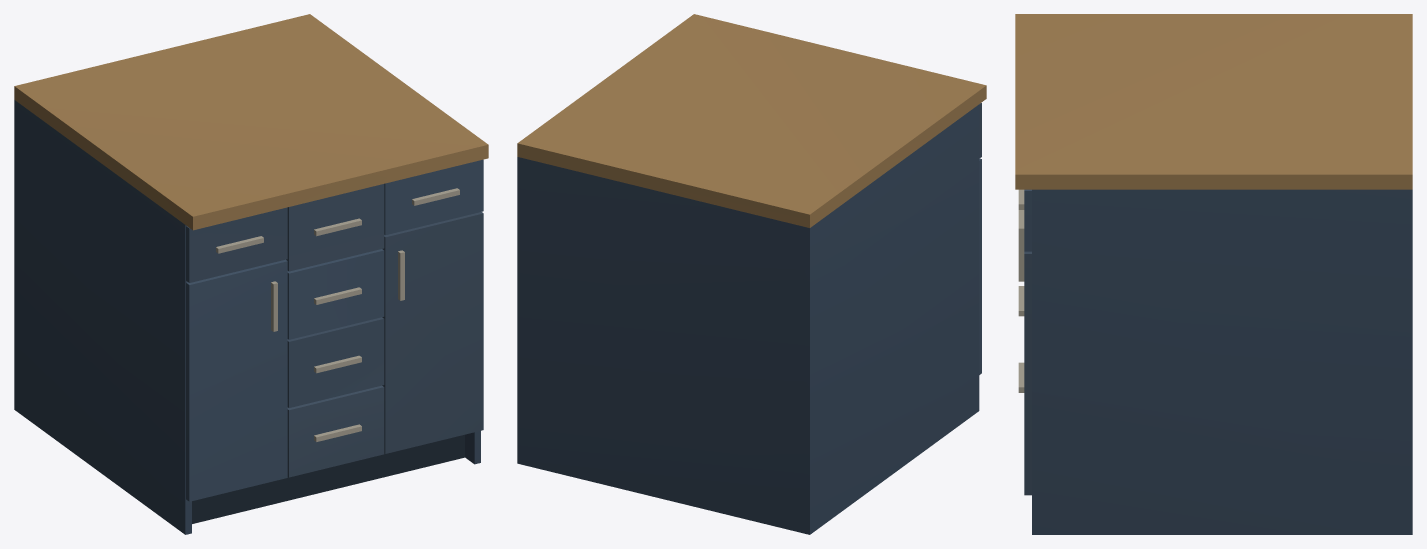
Rendered from cabinet.kitchen.blue.glb.
3 renders of one model, left to right at view 1: azimuth 30°, elevation 25°; view 2: azimuth 150°, elevation 25°; view 3: azimuth 270°, elevation 25°, orthographic. The views are drawn at different scales.
Visible parts, largest first — view 1: cabinet_kitchen_blue; view 2: cabinet_kitchen_blue; view 3: cabinet_kitchen_blue.
Part boxes in pixels (bbox=[...]): cabinet_kitchen_blue: bbox=[14, 14, 488, 534]; cabinet_kitchen_blue: bbox=[517, 14, 986, 534]; cabinet_kitchen_blue: bbox=[1015, 14, 1412, 534].
Size of what is drawn, in the model's own units: 0.908 by 0.95 by 0.95.
